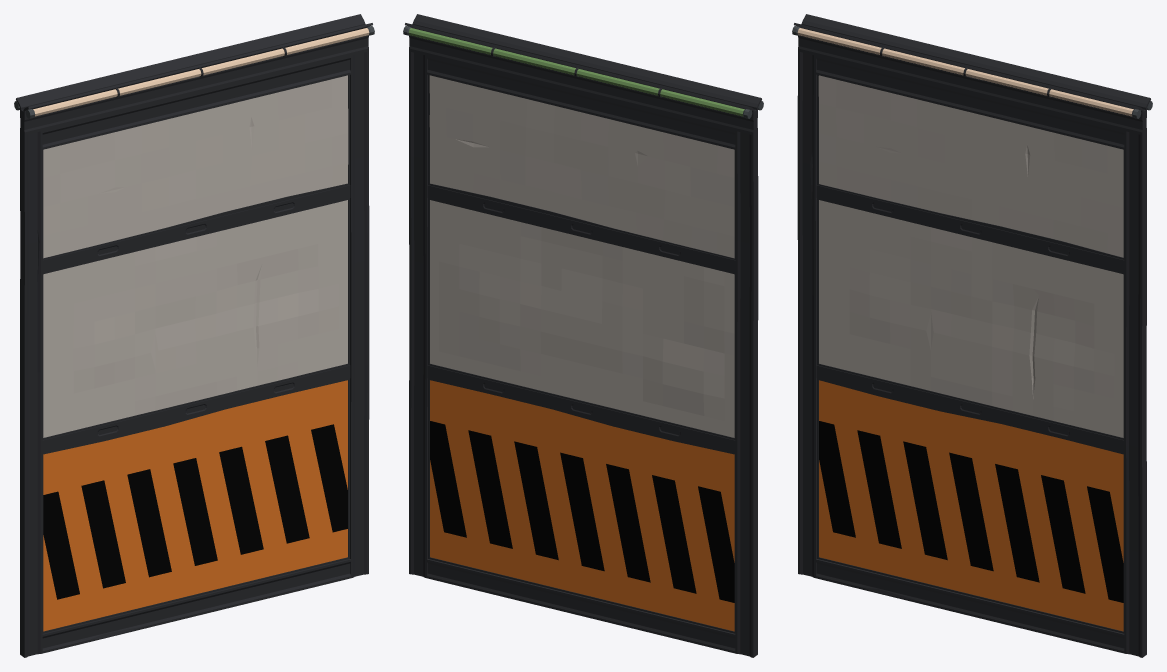
The model's file is SM_Wall_04.gltf.
3 renders of one model, left to right at view 1: azimuth 30°, elevation 25°; view 2: azimuth 150°, elevation 25°; view 3: azimuth 330°, elevation 25°, orthographic.
Parts seen in each view (by area): view 1: SM_Wall_04; view 2: SM_Wall_04; view 3: SM_Wall_04.
Boxes of the visible parts, x1,y1,x2,y2 form: SM_Wall_04: [14, 14, 374, 657]; SM_Wall_04: [403, 14, 763, 657]; SM_Wall_04: [792, 14, 1152, 657].
Bounding box in the file's own units: 2 × 3.07 × 0.166.
